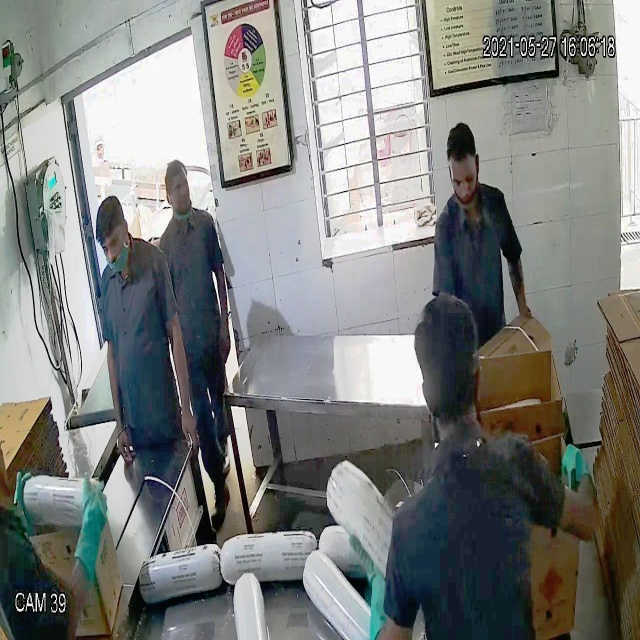Sin_gafas: (443, 160, 484, 194), (96, 228, 131, 261)
